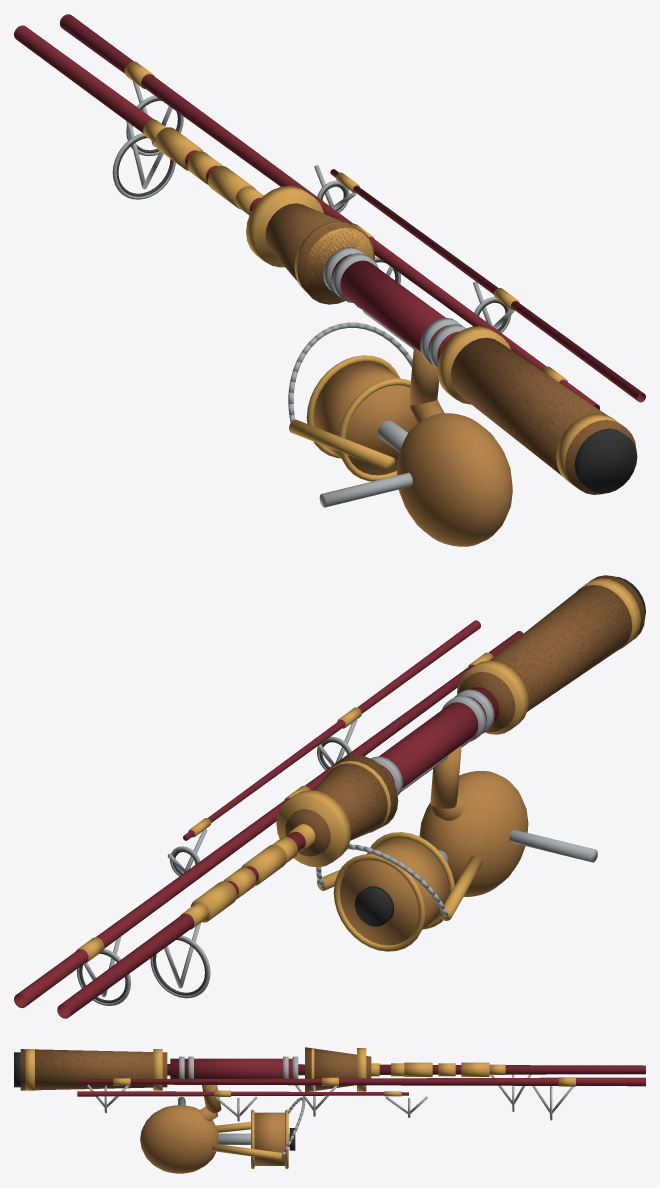
The model's file is heron_feeder_folded.glb.
3 renders of one model, top to bottom at view 1: azimuth 30°, elevation 25°; view 2: azimuth 150°, elevation 25°; view 3: azimuth 270°, elevation 25°, orthographic. The views are drawn at different scales.
Parts seen in each view (by area): view 1: Folded rod; view 2: Folded rod; view 3: Folded rod.
Boxes of the visible parts, bbox=[...] form: Folded rod: bbox=[14, 14, 645, 546]; Folded rod: bbox=[14, 575, 645, 1018]; Folded rod: bbox=[14, 1047, 645, 1173].
Bounding box in the file's own units: 0.1577 × 0.1428 × 0.667.
8 materials, 1 textured.
